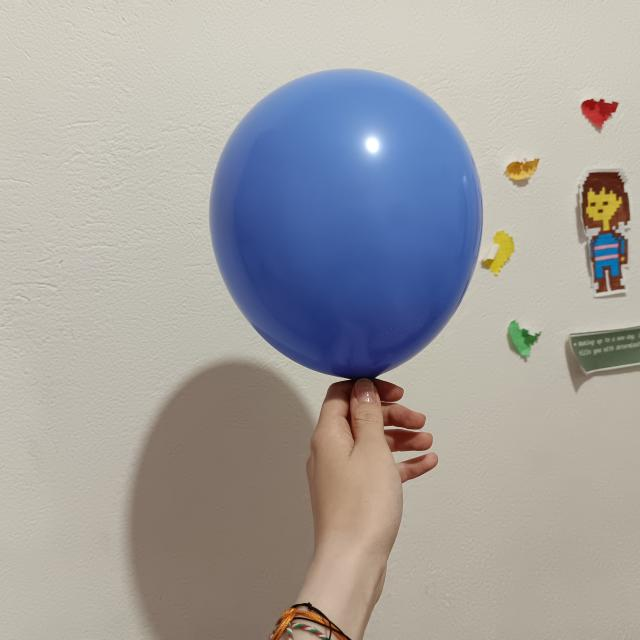blue: (213, 69, 484, 383)
